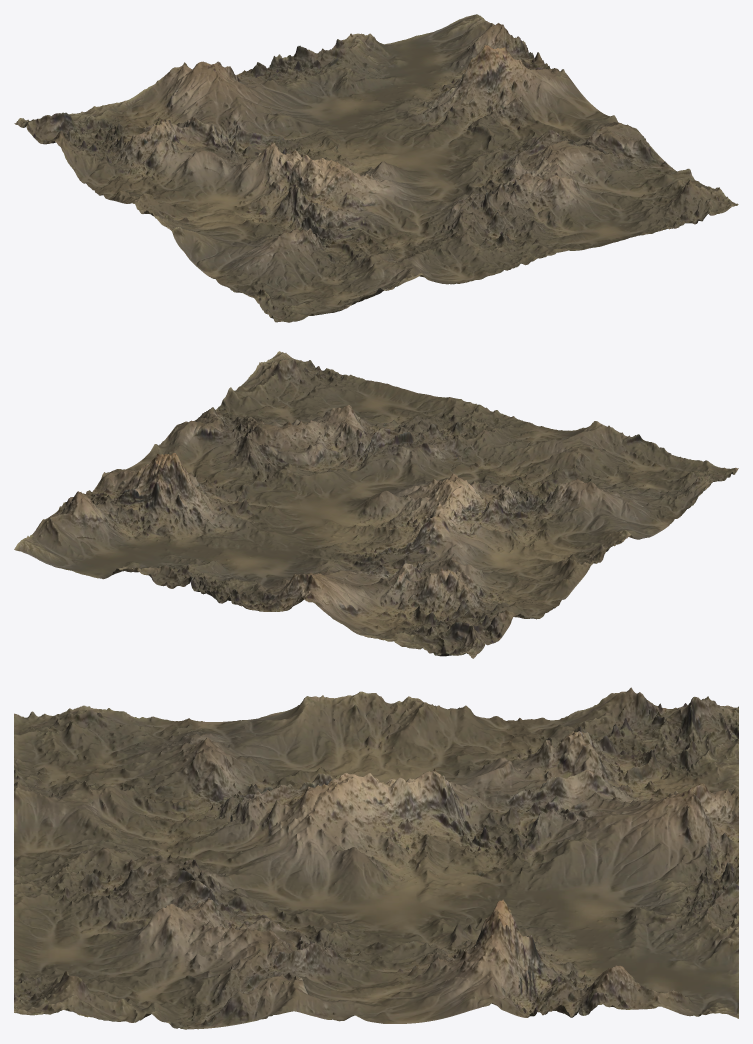
Rendered from death_valley-lo.glb.
3 renders of one model, top to bottom at view 1: azimuth 30°, elevation 25°; view 2: azimuth 150°, elevation 25°; view 3: azimuth 270°, elevation 25°, orthographic. The views are drawn at different scales.
Parts seen in each view (by area): view 1: Object_2; view 2: Object_2; view 3: Object_2.
Part boxes in pixels (<box>): Object_2: <box>14,14,738,322</box>; Object_2: <box>14,351,738,658</box>; Object_2: <box>14,687,738,1029</box>.
Size of the model in its own units: 1 by 0.1231 by 1.
1 material, 1 textured.
